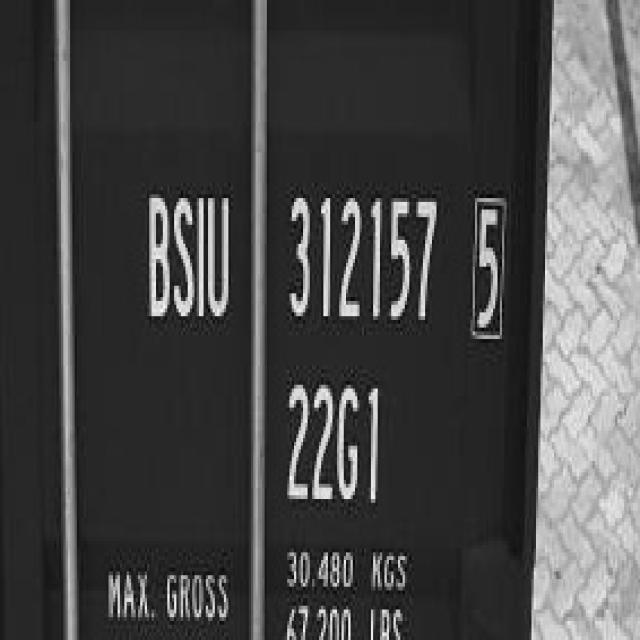dv: (463, 187, 511, 345)
owner: (142, 184, 236, 329)
serial: (282, 183, 439, 330)
size: (278, 360, 389, 511)
